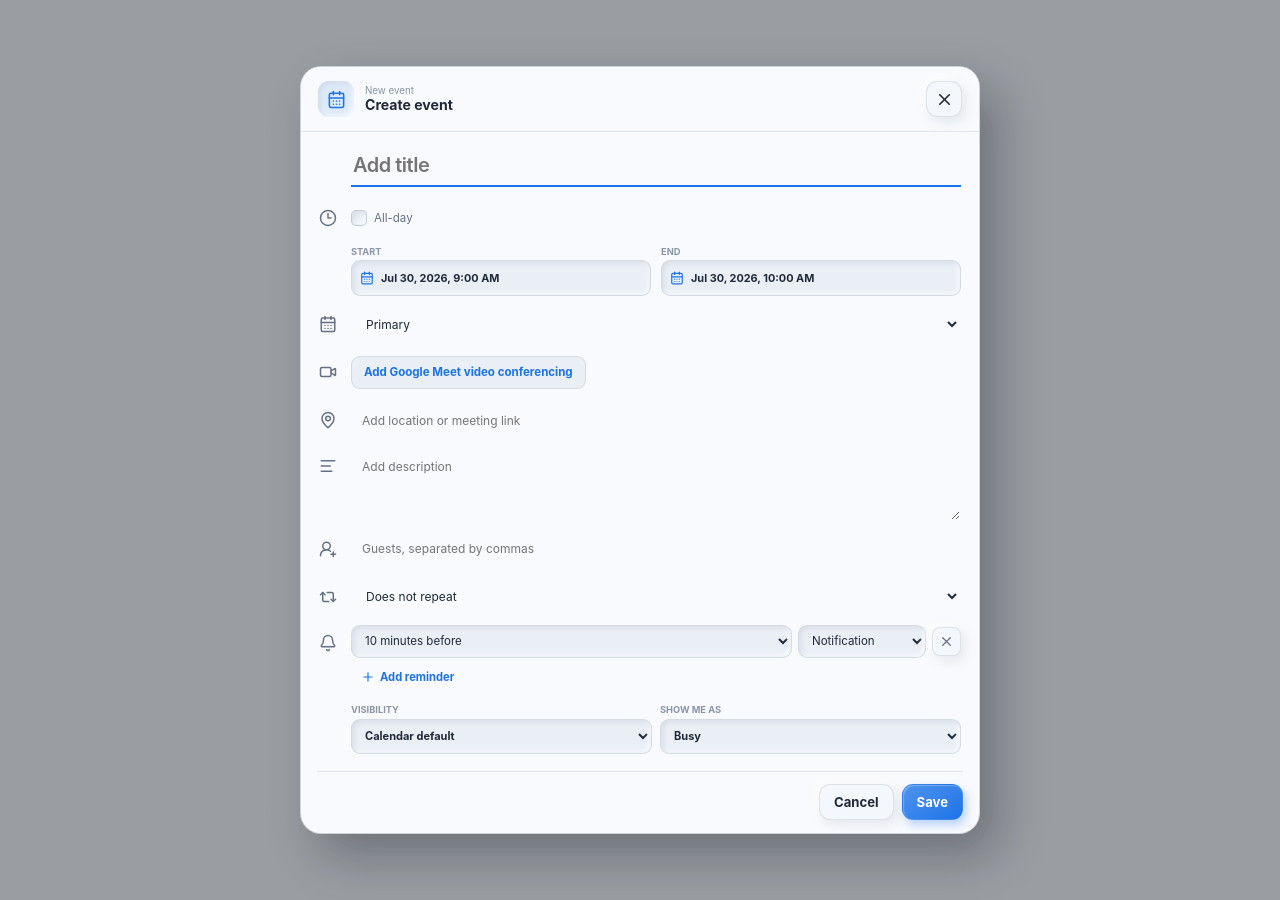
Test: EventDialog › shows string errors returned by Tauri
Type "Planning" into the field with placeholder "Add title".
click(656, 168); type("Planning")  # box [351,148,961,187]
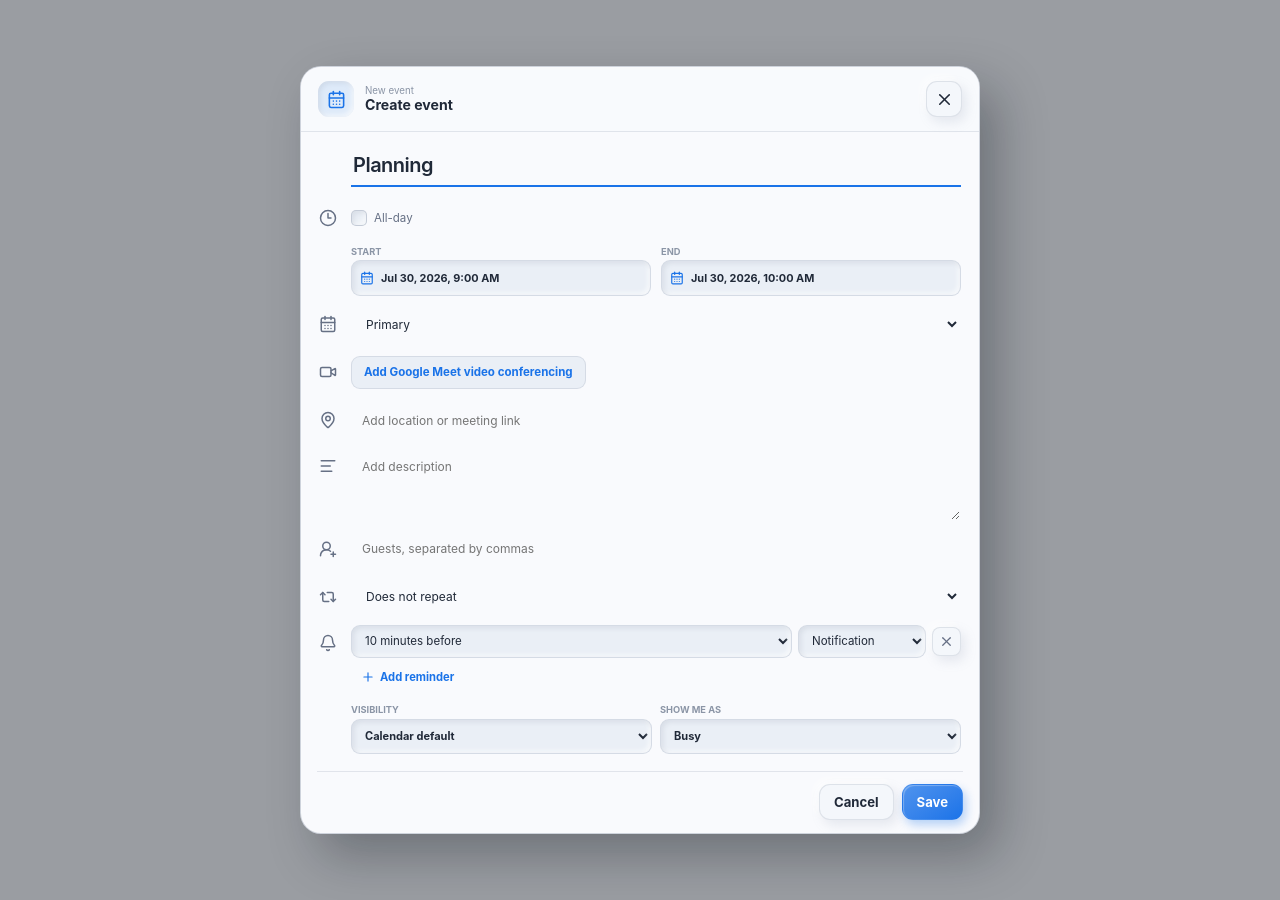
Click the button "Save".
click(932, 802)  # box [902,784,963,820]
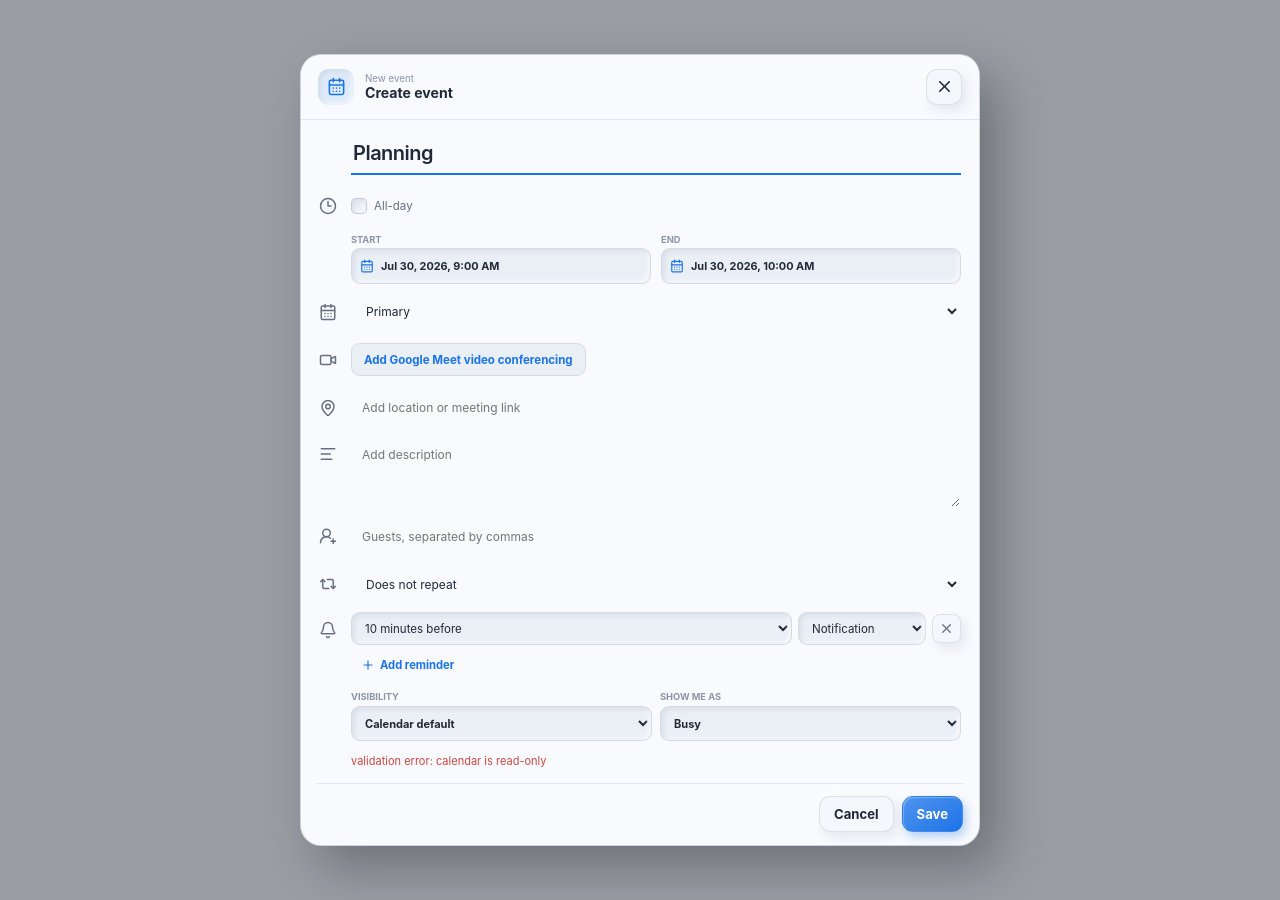
Result: the text "validation error: calendar is read-only" is shown at [351,754,546,768]
